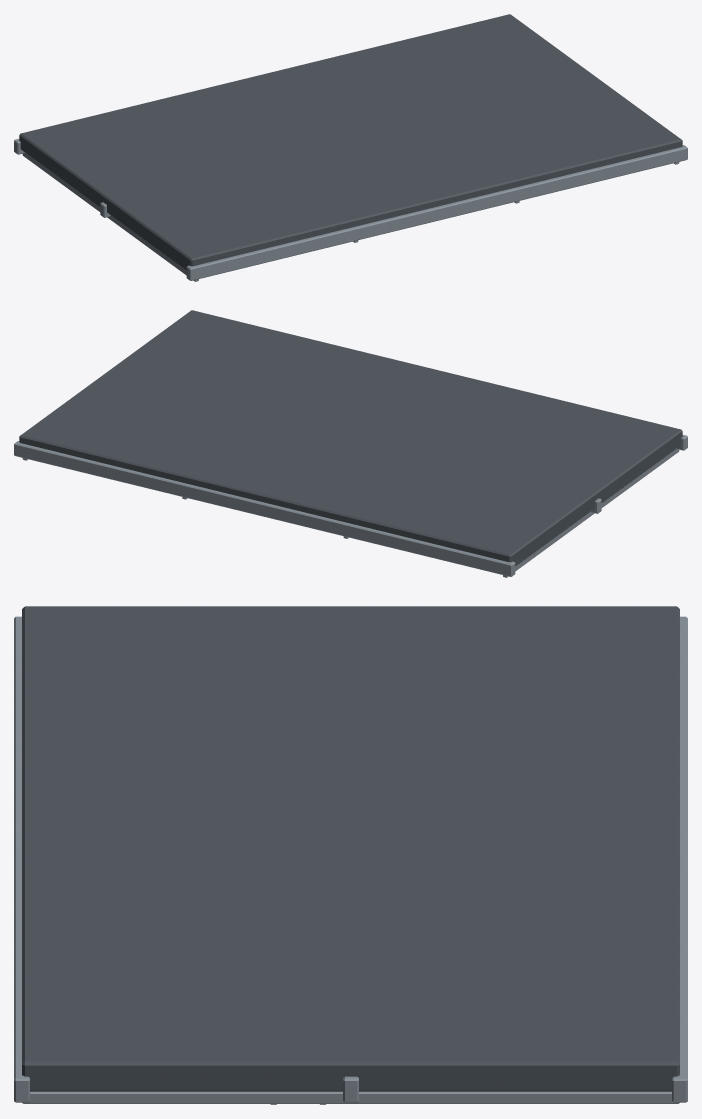
The model's file is NA_GalleryCeilingBay_S_G02_LOD1.fbx.
The picture shows the model from 3 angles, top to bottom: view 1: azimuth 30°, elevation 25°; view 2: azimuth 150°, elevation 25°; view 3: azimuth 270°, elevation 25°; orthographic projection. The views are drawn at different scales.
Parts seen in each view (by area): view 1: NA_GalleryCeilingBay_S_G02_LOD1; view 2: NA_GalleryCeilingBay_S_G02_LOD1; view 3: NA_GalleryCeilingBay_S_G02_LOD1.
Boxes of the visible parts, <box> form: NA_GalleryCeilingBay_S_G02_LOD1: <box>14,14,687,281</box>; NA_GalleryCeilingBay_S_G02_LOD1: <box>14,310,687,577</box>; NA_GalleryCeilingBay_S_G02_LOD1: <box>14,606,687,1104</box>.
Bounding box in the file's own units: 20.5 × 1.36 × 12.6.
